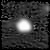node: (14, 17, 34, 34)
